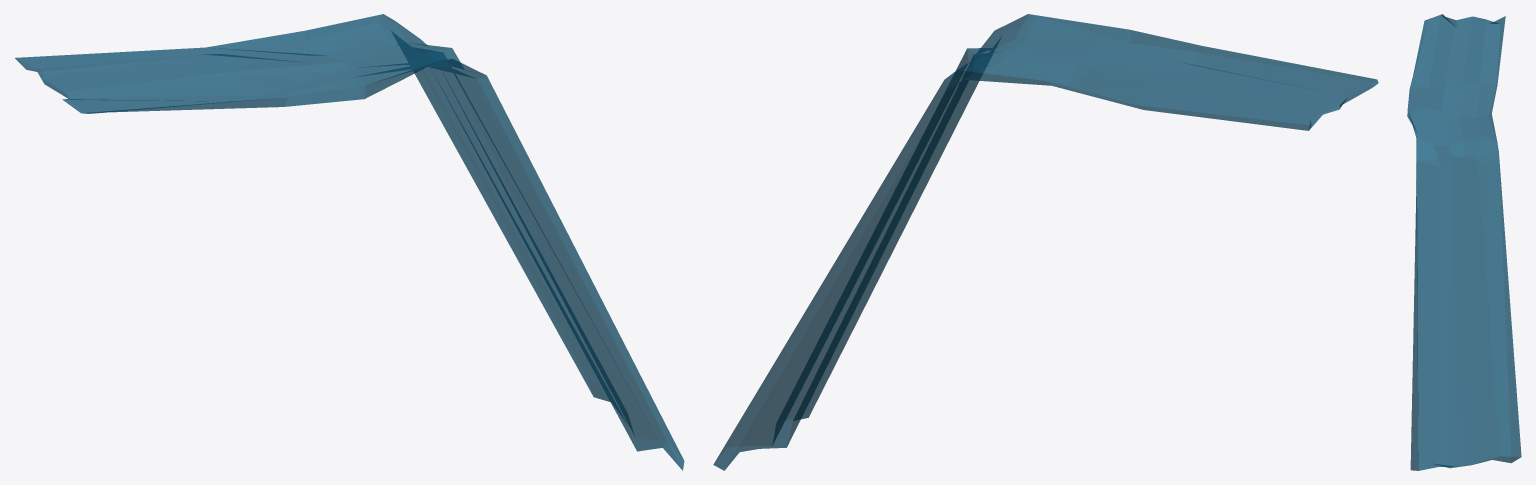
Rendered from pyramid_water.FBX.
3 renders of one model, left to right at view 1: azimuth 30°, elevation 25°; view 2: azimuth 150°, elevation 25°; view 3: azimuth 270°, elevation 25°, orthographic. The views are drawn at different scales.
Parts seen in each view (by area): view 1: pyramid_water; view 2: pyramid_water; view 3: pyramid_water.
Boxes of the visible parts, x1,y1,x2,y2 form: pyramid_water: (15, 14, 684, 470); pyramid_water: (713, 14, 1378, 470); pyramid_water: (1407, 14, 1521, 470).
Bounding box in the file's own units: 582 × 461 × 165.
